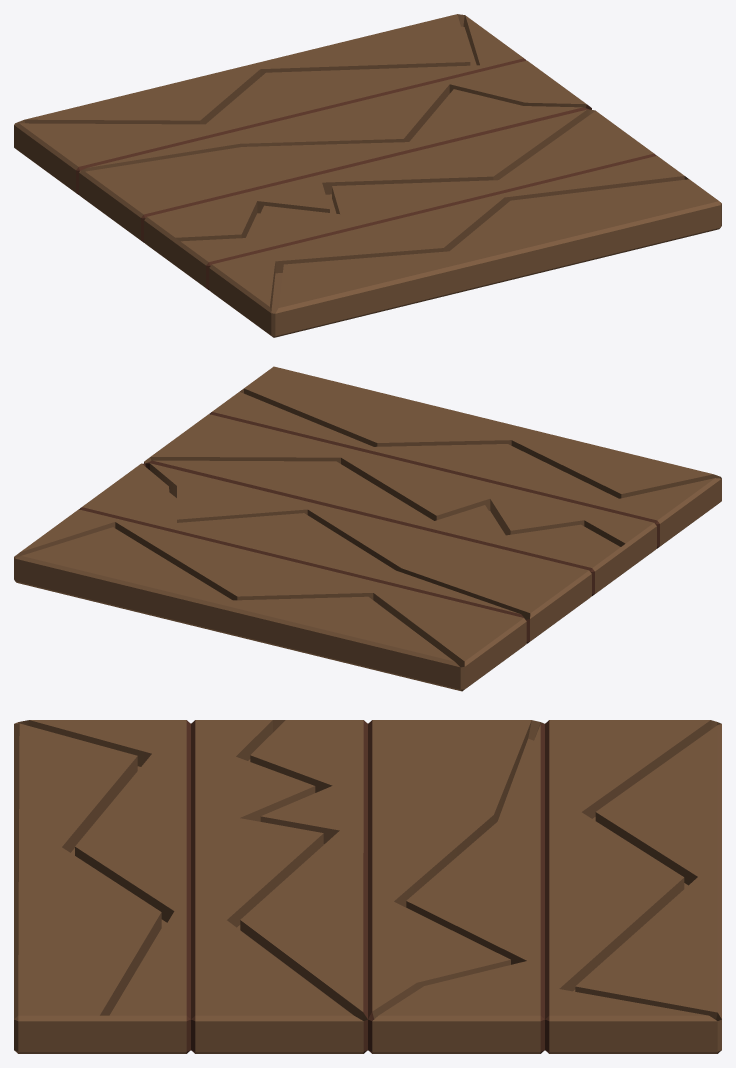
The model's file is Piso de madera roto.fbx.
3 renders of one model, top to bottom at view 1: azimuth 30°, elevation 25°; view 2: azimuth 150°, elevation 25°; view 3: azimuth 270°, elevation 25°, orthographic. The views are drawn at different scales.
Visible parts, largest first — view 1: polySurface355; view 2: polySurface355; view 3: polySurface355.
Part boxes in pixels (x1,y1,x2,y2): polySurface355: (14, 14, 721, 337); polySurface355: (14, 366, 721, 691); polySurface355: (14, 720, 721, 1053).
Bounding box in the file's own units: 2.99 × 0.1785 × 2.99.
